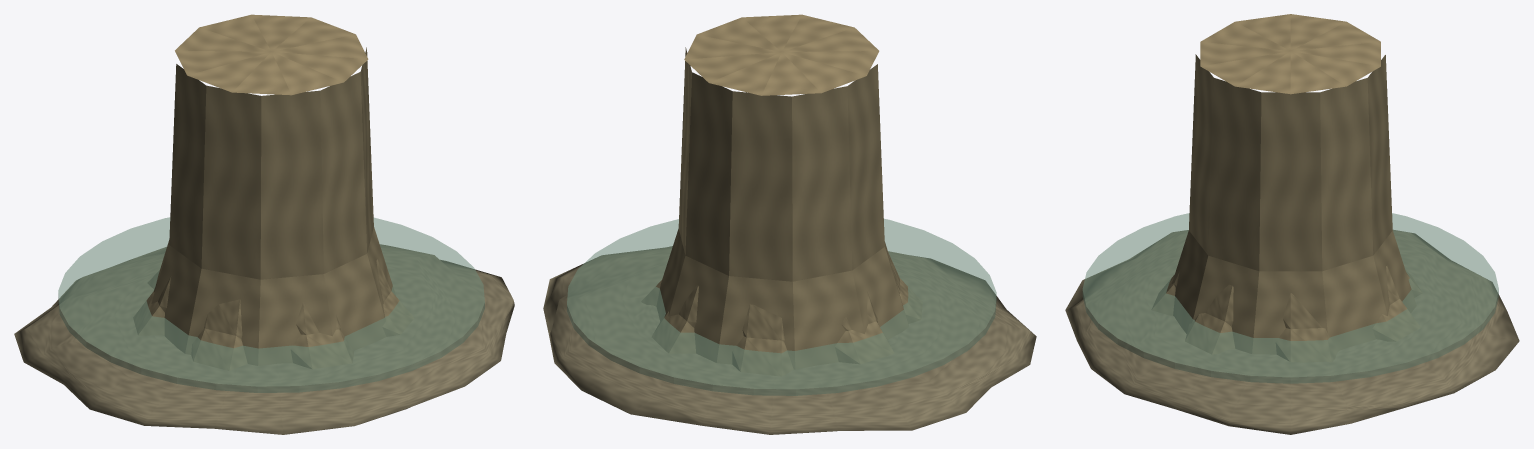
Rendered from stump_standing_in_water_swamp_and_mangrove_22651.glb.
3 renders of one model, left to right at view 1: azimuth 30°, elevation 25°; view 2: azimuth 150°, elevation 25°; view 3: azimuth 270°, elevation 25°, orthographic. The views are drawn at different scales.
Visible parts, largest first — view 1: stump-in-water; view 2: stump-in-water; view 3: stump-in-water.
Boxes of the visible parts, bbox=[...] form: stump-in-water: bbox=[14, 14, 514, 434]; stump-in-water: bbox=[543, 14, 1036, 434]; stump-in-water: bbox=[1065, 14, 1519, 434].
Size of the model in its own units: 1.81 by 1.11 by 1.64.
Materials: 4 (3 with a texture image).
